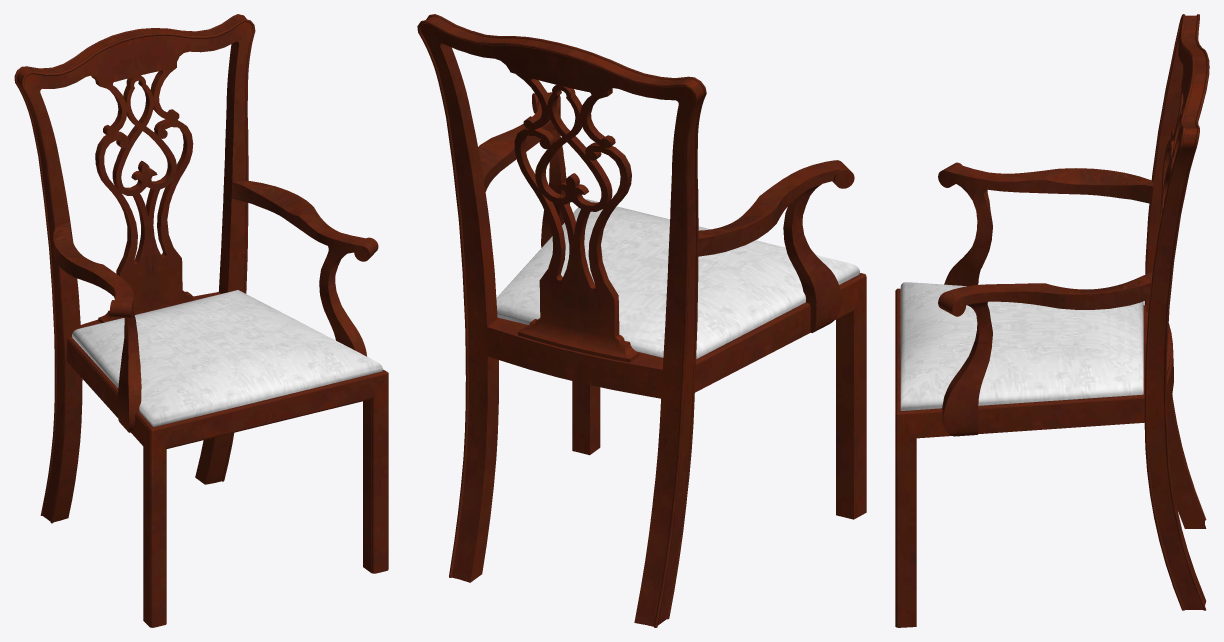
The model's file is chair2.FBX.
The picture shows the model from 3 angles, left to right: view 1: azimuth 30°, elevation 25°; view 2: azimuth 150°, elevation 25°; view 3: azimuth 270°, elevation 25°; orthographic projection. The views are drawn at different scales.
Parts seen in each view (by area): view 1: Component_9_1, Component_9_2, Component_7_1, Component_7_2, Component_6_1, Component_6_2, Component_1_2, Component_2_1, Component_1_1, Component_8_1, Component_8_2, Component_2_2; view 2: Component_9_1, Component_9_2, Component_7_1, Component_6_1, Component_7_2, Component_2_1, Component_1_1, Component_8_1, Component_2_2, Component_6_2, Component_1_2, Component_8_2; view 3: Component_7_2, Component_6_2, Component_9_2, Component_9_1, Component_7_1, Component_1_1, Component_1_2, Component_2_2, Component_8_2, Component_8_1, Component_2_1, Component_6_1.
Boxes of the visible parts, <box> form: Component_9_1: <box>16,33,150,521</box>; Component_9_2: <box>127,16,252,484</box>; Component_7_1: <box>72,308,267,427</box>; Component_7_2: <box>159,290,382,399</box>; Component_6_1: <box>67,336,270,627</box>; Component_6_2: <box>268,369,388,573</box>; Component_1_2: <box>231,180,378,261</box>; Component_2_1: <box>14,31,133,523</box>; Component_1_1: <box>53,221,133,318</box>; Component_8_1: <box>117,311,141,432</box>; Component_8_2: <box>319,246,366,356</box>; Component_2_2: <box>126,14,255,481</box>; Component_9_1: <box>551,45,703,626</box>; Component_9_2: <box>420,16,576,582</box>; Component_7_1: <box>617,240,859,358</box>; Component_6_1: <box>639,273,866,519</box>; Component_7_2: <box>496,199,709,324</box>; Component_2_1: <box>550,43,706,627</box>; Component_1_1: <box>698,160,854,256</box>; Component_8_1: <box>783,184,841,332</box>; Component_2_2: <box>417,14,559,577</box>; Component_6_2: <box>497,317,600,455</box>; Component_1_2: <box>478,92,560,191</box>; Component_8_2: <box>541,114,569,247</box>; Component_7_2: <box>900,326,1143,410</box>; Component_6_2: <box>895,350,1145,627</box>; Component_9_2: <box>1147,66,1206,609</box>; Component_9_1: <box>1146,15,1206,528</box>; Component_7_1: <box>900,282,1143,346</box>; Component_1_1: <box>938,162,1153,203</box>; Component_1_2: <box>938,272,1152,316</box>; Component_2_2: <box>1144,65,1209,610</box>; Component_8_2: <box>942,301,992,436</box>; Component_8_1: <box>944,182,992,286</box>; Component_2_1: <box>1144,14,1209,520</box>; Component_6_1: <box>895,288,1147,352</box>.
Bounding box in the file's own units: 24.78 × 40.69 × 23.18.
2 materials, 2 textured.
